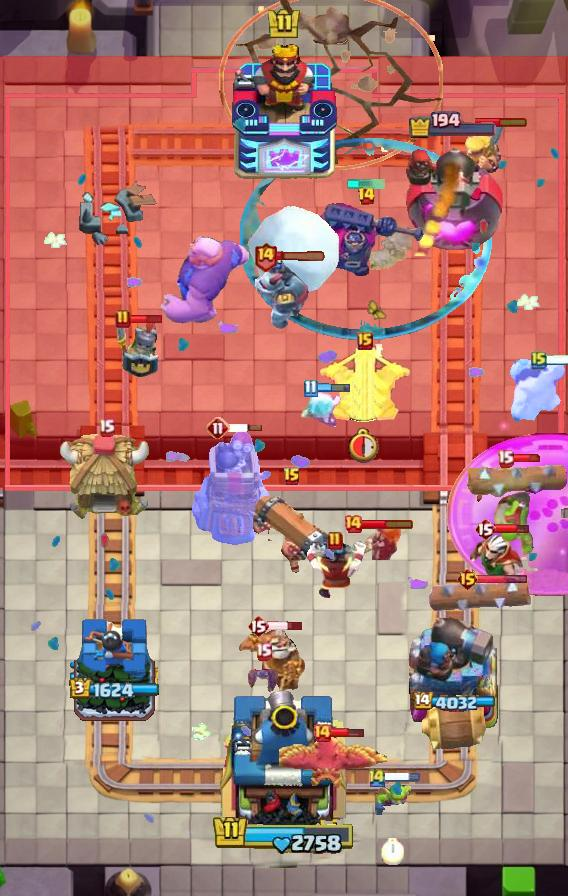arrows: (464, 126, 505, 180)
balloon: (158, 234, 252, 326)
bar-level: (492, 492, 542, 558)
barbarian-barrel: (244, 664, 282, 692)
bat: (299, 391, 343, 427)
battle-healer: (251, 491, 333, 575)
clock: (212, 814, 356, 856)
elixir: (348, 426, 382, 463), (381, 839, 404, 866)
elixir-collector: (236, 622, 306, 694)
elixir-golem-small: (254, 257, 310, 329)
emote: (476, 116, 529, 128), (362, 518, 415, 530), (275, 250, 327, 261), (476, 574, 528, 585), (386, 772, 423, 785), (494, 522, 530, 535), (267, 620, 304, 632), (330, 727, 366, 739), (128, 313, 163, 325), (316, 382, 351, 394), (227, 423, 263, 433), (511, 453, 543, 463), (544, 354, 567, 367)
fisherman: (368, 224, 412, 272)
guard: (219, 0, 443, 171)
hog-rider: (333, 522, 403, 578)
ice-spirit: (346, 179, 386, 189)
inferno-tower: (306, 201, 426, 279)
king-tower: (214, 684, 354, 826), (230, 41, 338, 181)
knight-evolution: (448, 433, 568, 596)
lava-pup: (316, 343, 414, 425)
lumberjack: (300, 540, 370, 600)
minion: (465, 460, 568, 498), (429, 579, 536, 615)
mother-witch: (279, 734, 391, 804)
pad_0: (240, 137, 492, 341)
prince: (59, 432, 153, 522)
princess: (114, 318, 160, 380)
queen-tower: (70, 616, 158, 731)
rage: (508, 356, 568, 428)
selected: (408, 111, 498, 139), (68, 676, 159, 700), (411, 691, 495, 713)
skeleton-king: (470, 534, 536, 604)
text: (254, 240, 279, 271), (206, 416, 230, 440), (457, 567, 480, 591), (474, 517, 496, 541), (247, 614, 269, 638), (367, 768, 387, 789), (343, 514, 363, 534), (312, 723, 332, 743), (356, 186, 375, 206), (283, 467, 301, 487), (497, 449, 515, 468), (98, 419, 115, 438), (256, 643, 273, 662), (115, 309, 131, 329), (531, 350, 547, 370), (327, 531, 343, 551), (357, 332, 373, 350), (303, 379, 318, 398)
the-log: (419, 698, 493, 750)
tower-bar: (404, 138, 505, 256), (407, 611, 499, 731)
wall-breaker: (247, 204, 341, 296)
zap: (371, 782, 413, 824)
zappy: (192, 428, 277, 550)
